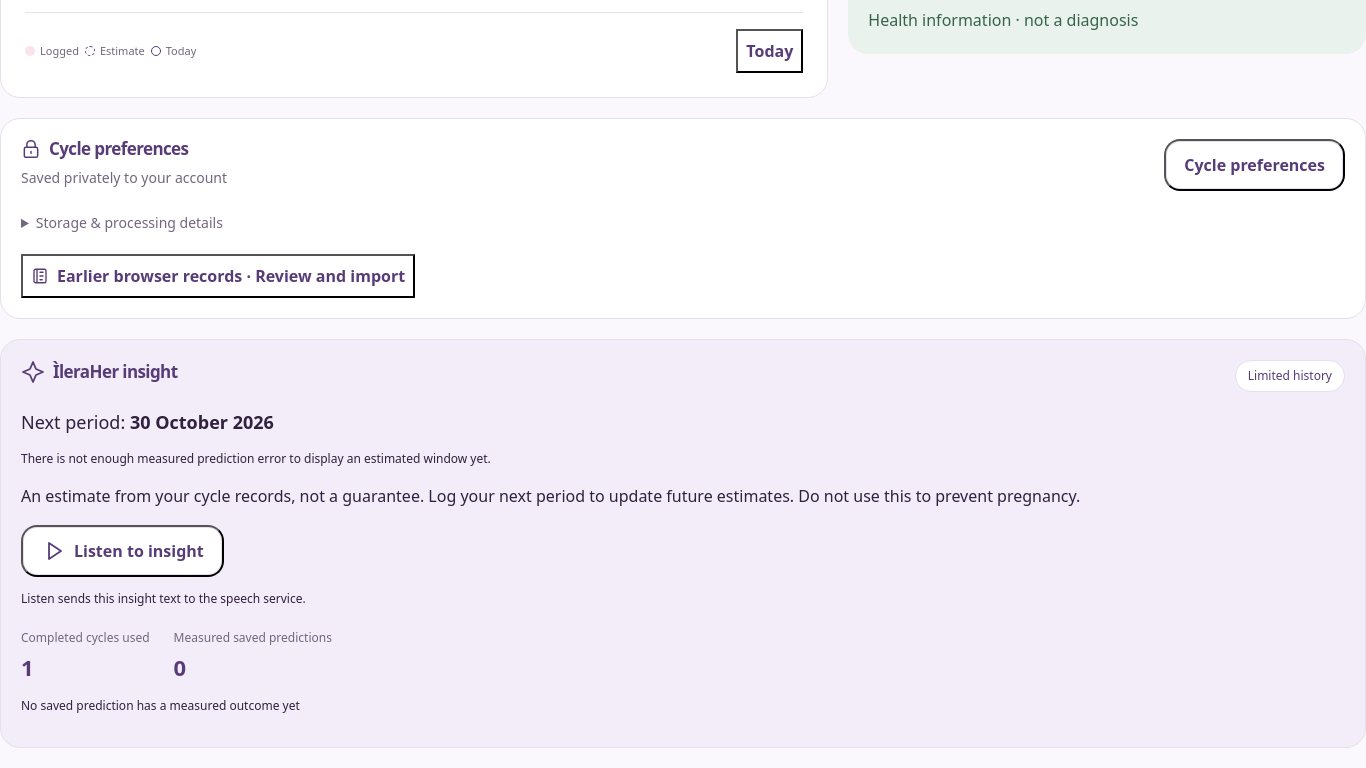
Test: personalized calendar › preserves the insight on speech quota failure without a device fallback
(page scrolled)
Click the button "Listen to insight" at point(122, 551), box [21, 525, 224, 577]
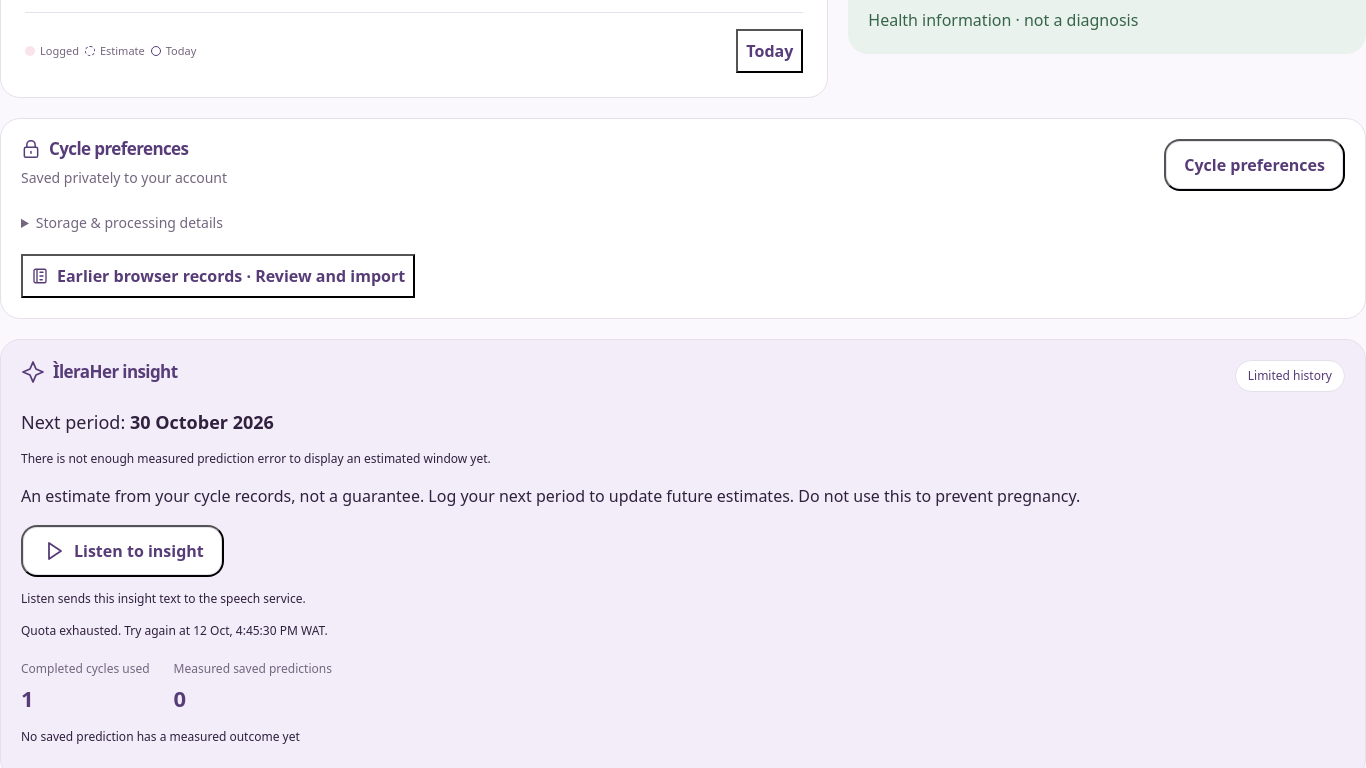
Expected: the text "30 October 2026" is shown, [130, 410, 274, 434]
Expected: the text "Quota exhausted. Try again at 12 Oct, 4:45:30 PM WAT." is shown, [21, 622, 328, 638]
